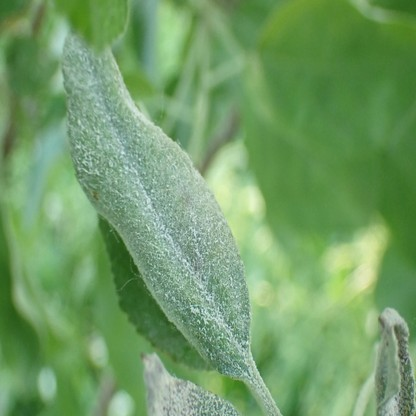powdery_mildew: (62, 28, 251, 375), (141, 350, 239, 416), (374, 305, 415, 416)
